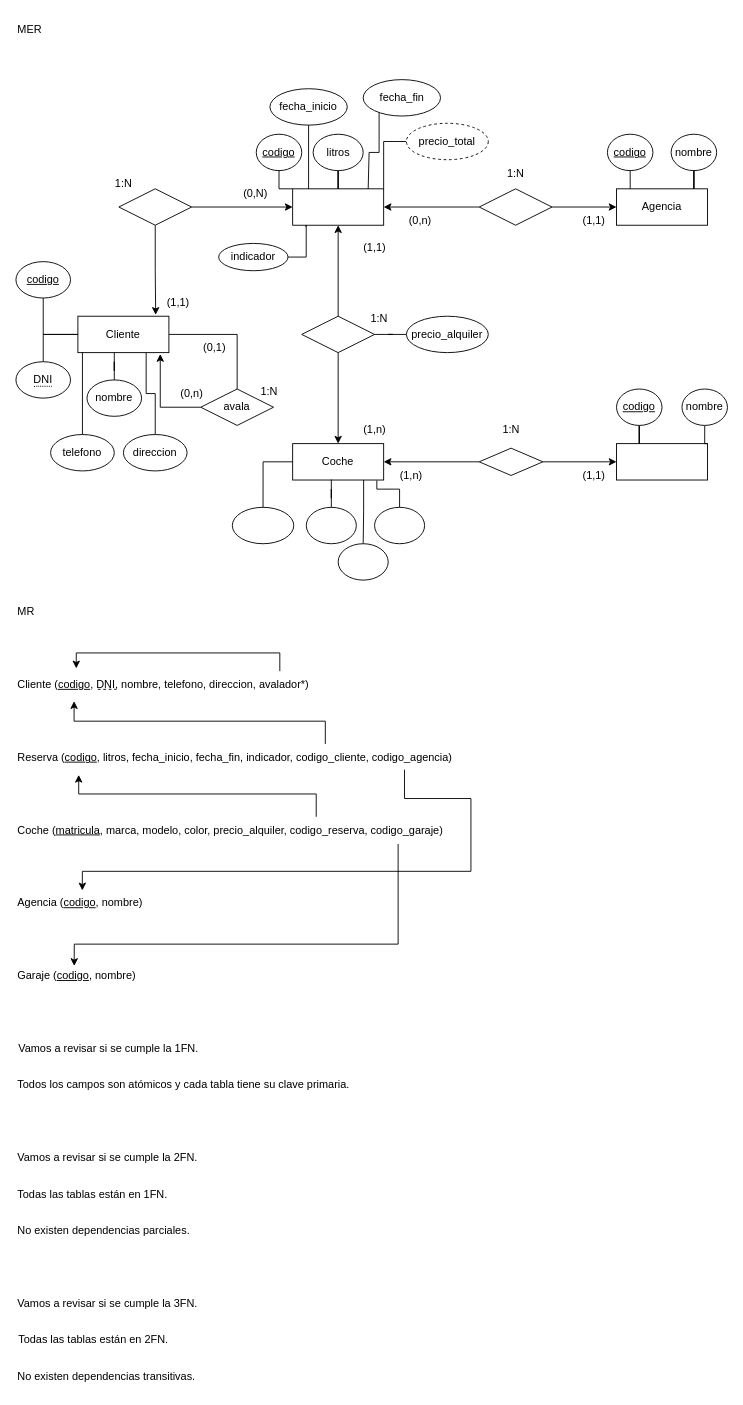
Image size: 743x1405. Some labels were removed from this diagram. The shapes that lost their labels are listed below. From the top down, each one's centre as x and y in pixels, then its label:
At (x=155, y=206): "realiza".
At (x=338, y=206): "Reserva".
At (x=515, y=206): "gestiona".
At (x=338, y=334): "involucra".
At (x=510, y=461): "asigna".
At (x=662, y=461): "Garaje".
At (x=262, y=525): "matricula".
At (x=330, y=525): "modelo".
At (x=399, y=525): "color".
At (x=362, y=561): "marca".
